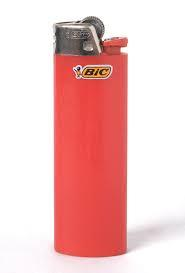lighter: (54, 14, 127, 257)
